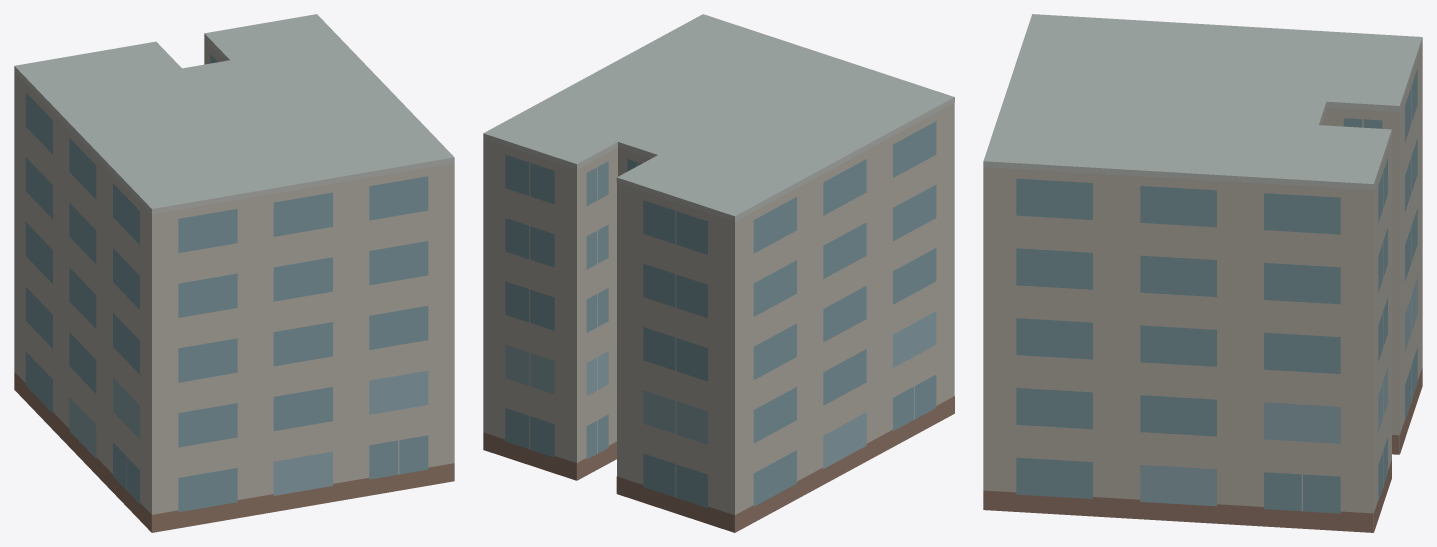
Rendered from survey-upis-33039501.glb.
3 views of the same model, side by side, from view 1: azimuth 30°, elevation 25°; view 2: azimuth 150°, elevation 25°; view 3: azimuth 270°, elevation 25° (orthographic). The views are drawn at different scales.
Parts seen in each view (by area): view 1: survey-upis-33039501.tmp; view 2: survey-upis-33039501.tmp; view 3: survey-upis-33039501.tmp.
Part boxes in pixels (x1,y1,x2,y2): survey-upis-33039501.tmp: (14, 14, 454, 532); survey-upis-33039501.tmp: (483, 14, 954, 532); survey-upis-33039501.tmp: (983, 14, 1422, 532).
Bounding box in the file's own units: 14.76 × 14.1 × 16.11.
